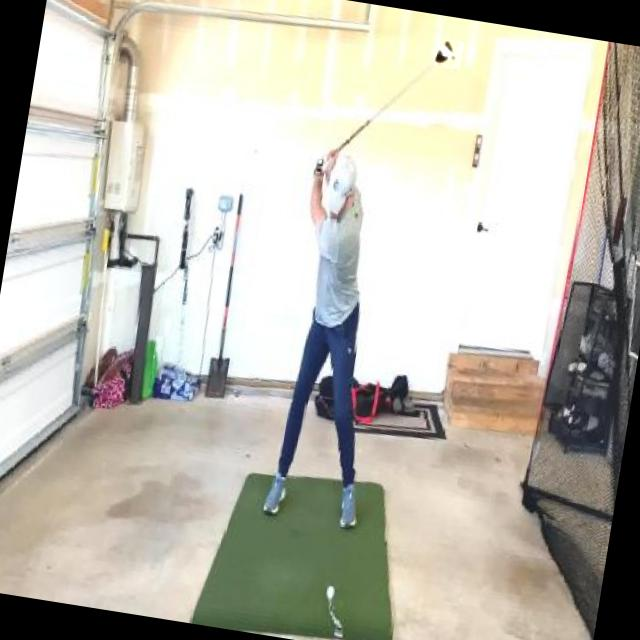club head: (434, 38, 464, 70)
